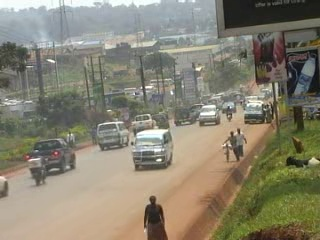Car: (169, 102, 197, 128), (196, 103, 223, 126), (0, 167, 12, 200), (151, 111, 173, 129), (220, 99, 238, 117)
Motorcycle: (25, 149, 48, 186), (225, 103, 235, 122)
